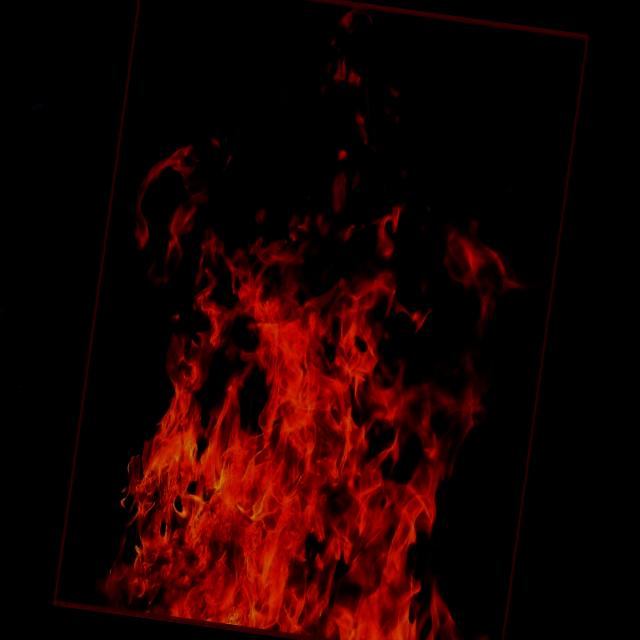fire: (52, 0, 588, 640)
